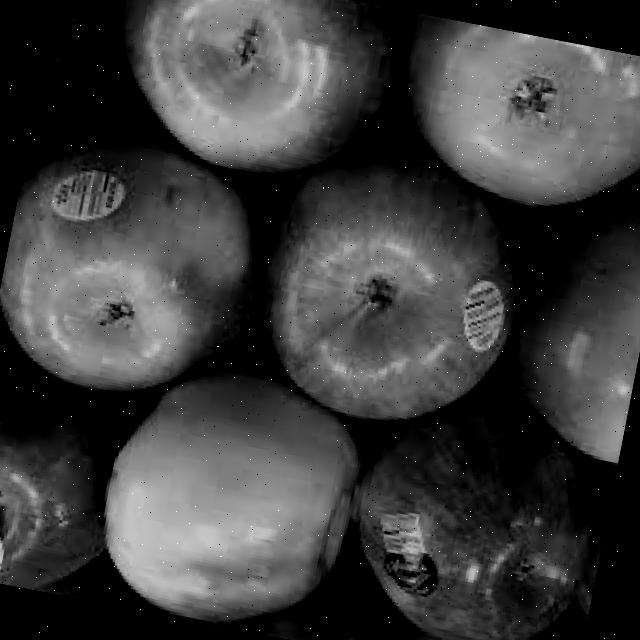apple: (244, 148, 541, 444), (0, 135, 281, 419), (85, 370, 376, 640), (95, 0, 410, 196), (344, 421, 609, 640), (383, 12, 640, 231)
